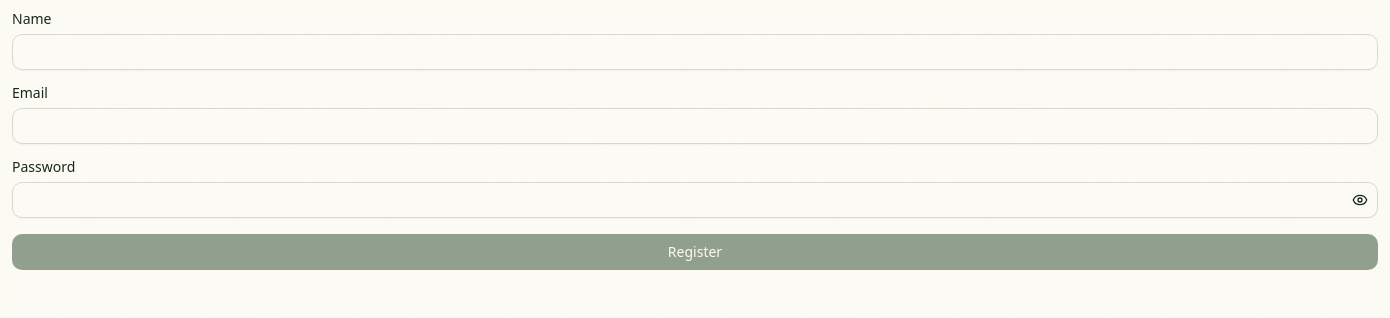
Test case: RegisterForm › validates password does not contain email local part
Type "John Doe" into the field labelled "Name" at (695, 52), box x1=12 y1=34 x2=1378 y2=70
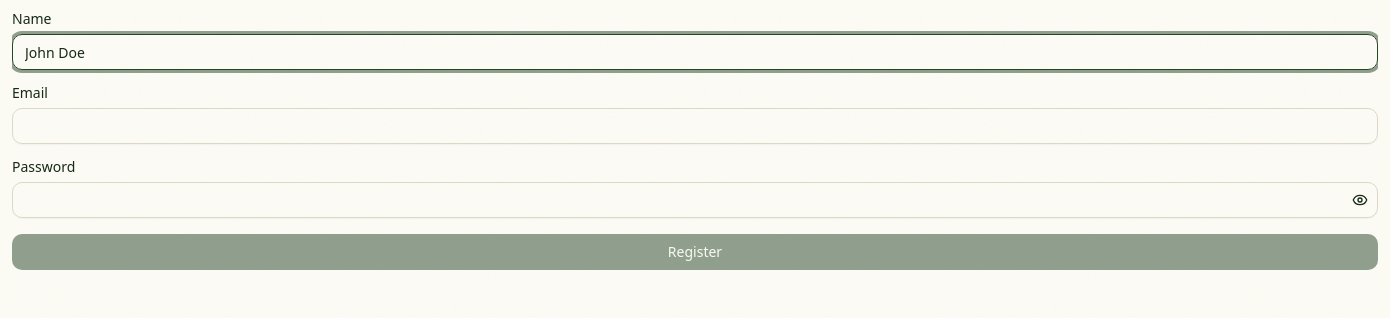
Type "john@example.com" into the field labelled "Email" at (695, 126), box x1=12 y1=108 x2=1378 y2=144
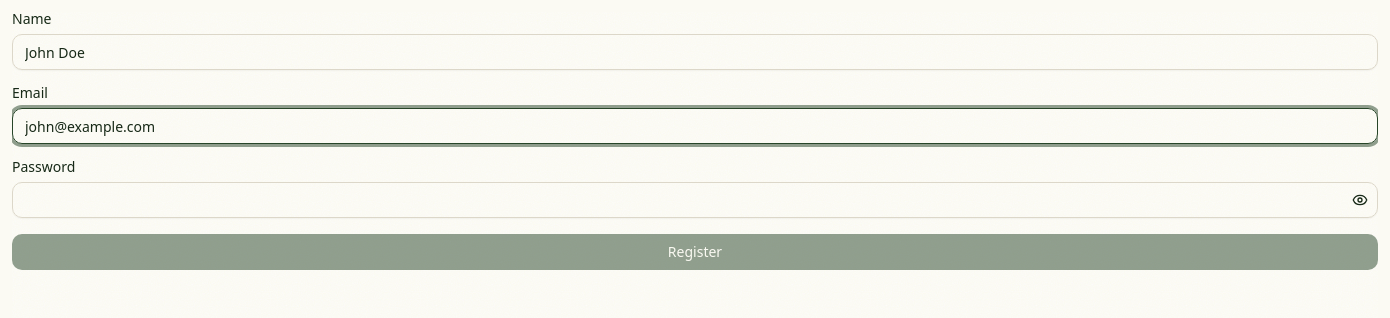
Type "Password123!john" into the password field labelled "Password" at (695, 200), box x1=12 y1=182 x2=1378 y2=218
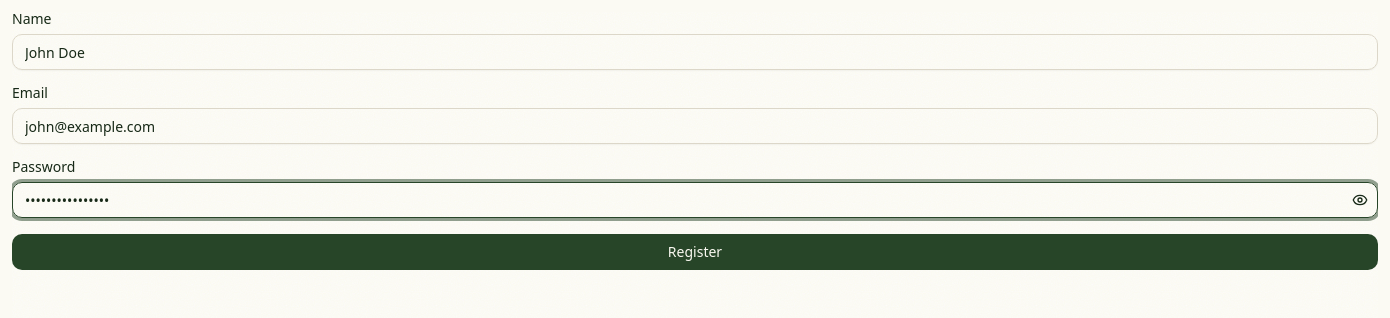
Click the button "Register" at (695, 252), box x1=12 y1=234 x2=1378 y2=270
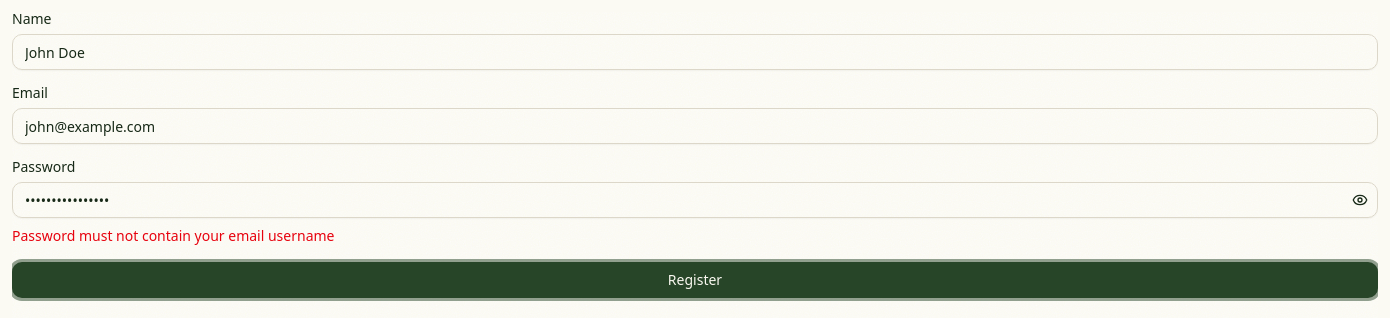
Now the text "Password must not contain your email username" is shown, box x1=12 y1=226 x2=334 y2=245
